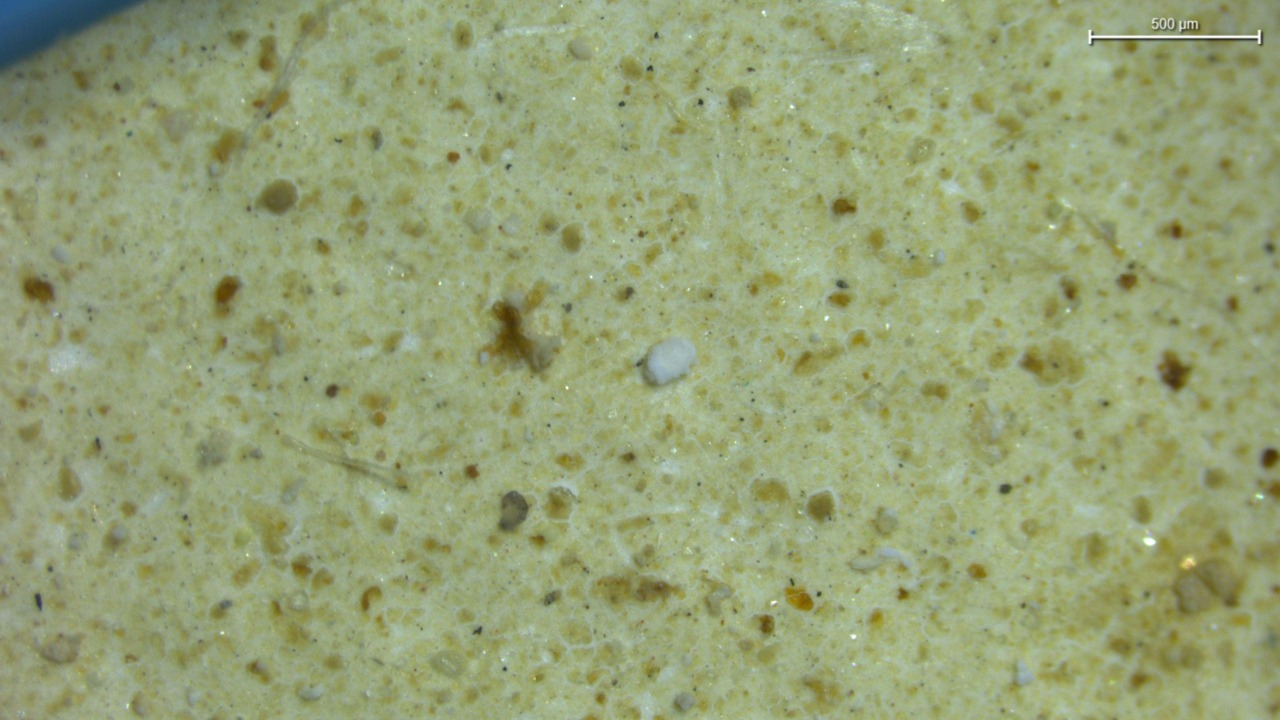microplastic_fragment: (641, 337, 696, 386)
